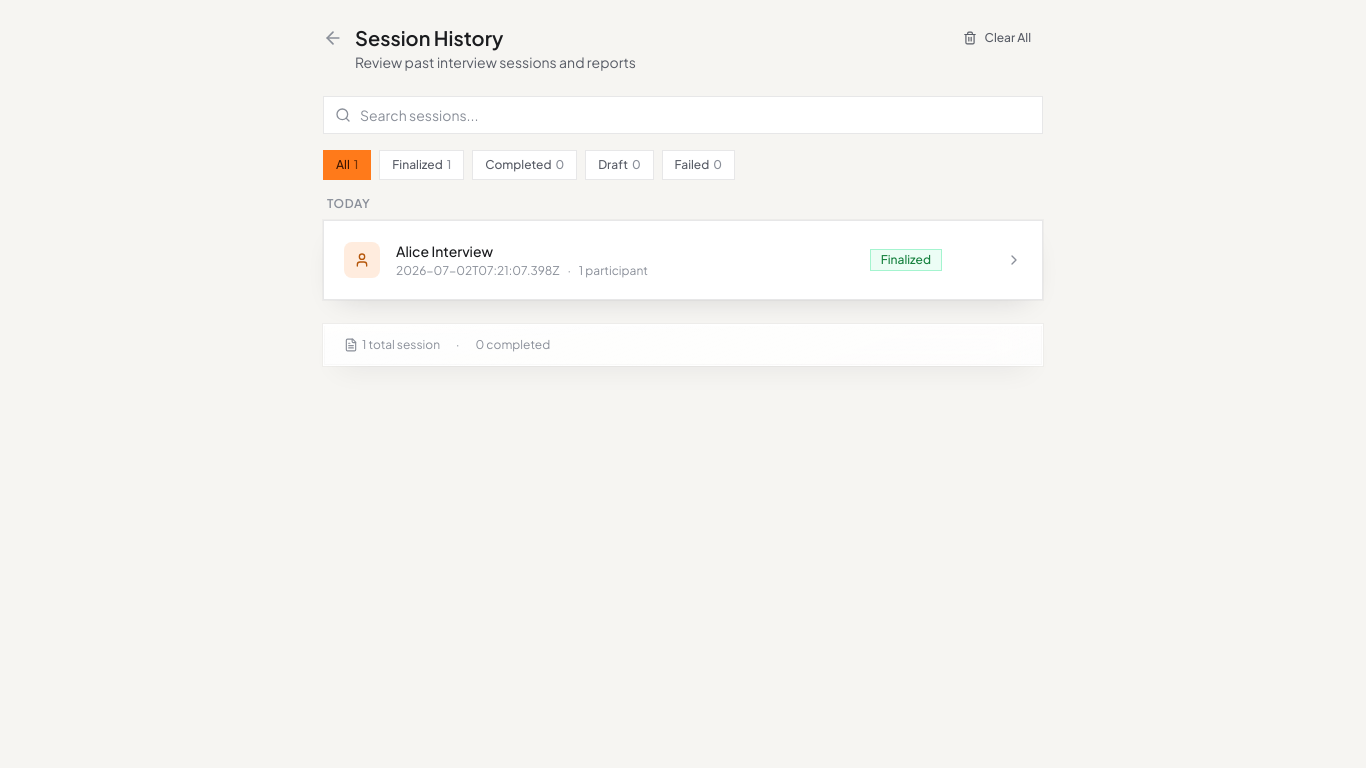
it: HistoryView › shows confirm dialog when Clear All is clicked
The image size is (1366, 768).
Click the button "Clear All". click: (997, 38)
box: left=951, top=24, right=1043, bottom=52
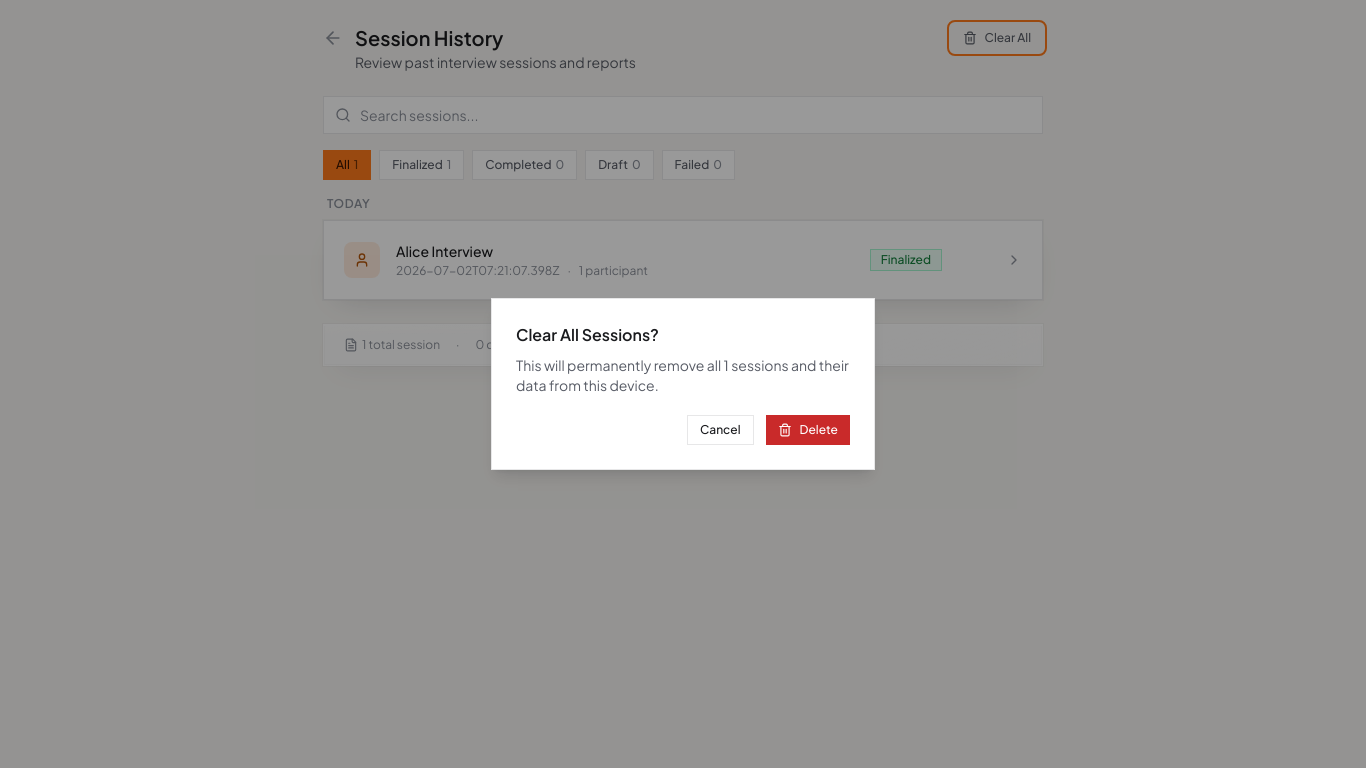
Now the heading "Clear All Sessions?" is shown, box left=516, top=324, right=659, bottom=345
